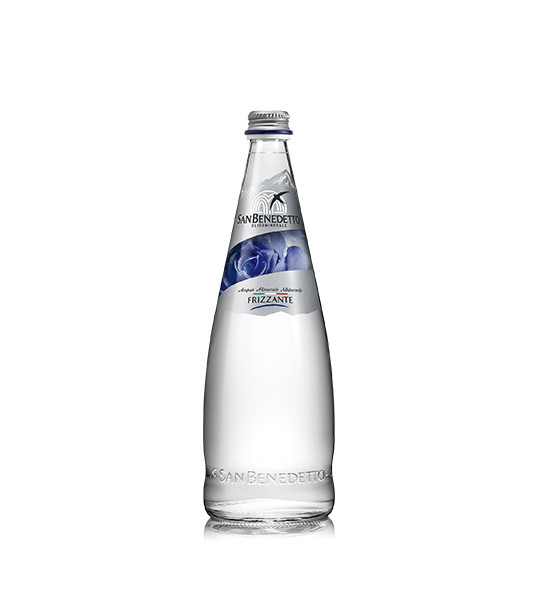glass_bottle: (197, 108, 344, 537)
